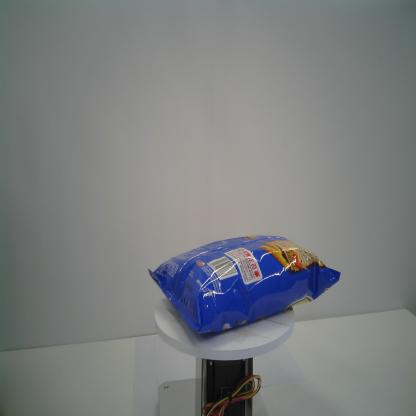Puffed Food: (146, 232, 342, 336)
